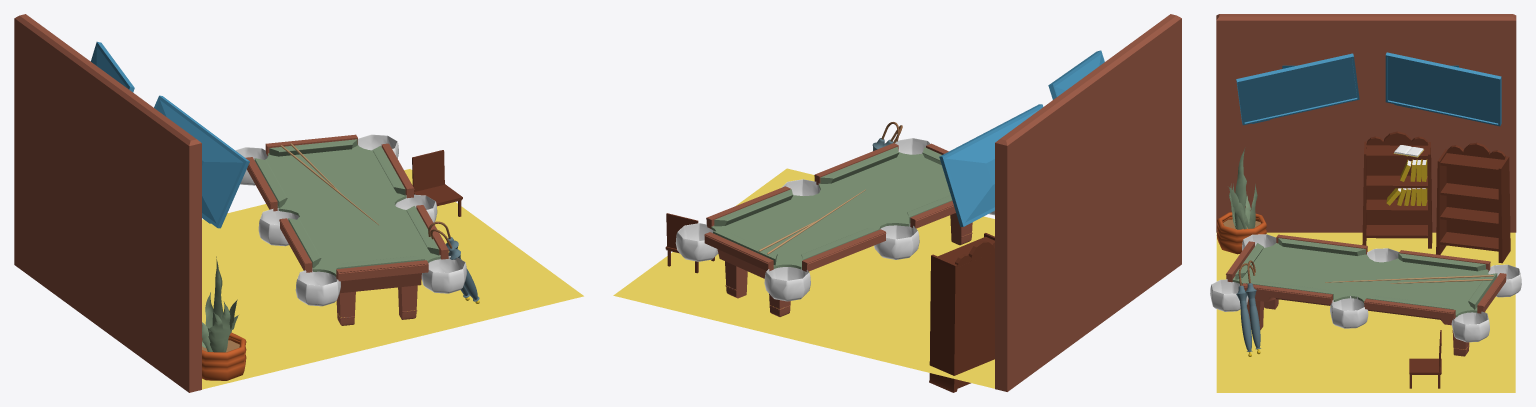
Rendered from Take3.fbx.
The picture shows the model from 3 angles, left to right: view 1: azimuth 30°, elevation 25°; view 2: azimuth 150°, elevation 25°; view 3: azimuth 270°, elevation 25°; orthographic projection. The views are drawn at different scales.
Parts seen in each view (by area): view 1: Wall, Floor, Table_PoolTable:Bed, Table_TelevisionWallMounted:Monitor, Unit4_CurvesLab:revolvedSurface1, Table_PoolTable:Cup5, Table_PoolTable:Cup4, Table_PoolTable:OuterEdge6, Chair_Again:pCube6, Table_PoolTable:TableBase, Table_PoolTable:Cup3, Table_PoolTable:Edge1 (+16 smaller); view 2: Wall, Floor, Table_PoolTable:Bed, Bookshelves1:Bookshelves, Table_TelevisionWallMounted1:Monitor, Table_PoolTable:Cup2, Table_PoolTable:Cup3, Table_PoolTable:Cup1, Table_PoolTable:OuterEdge2, Table_PoolTable:OuterEdge5, Table_TelevisionWallMounted:Monitor, Table_PoolTable:Edge6 (+9 smaller); view 3: Wall, Floor, Table_PoolTable:Bed, Bookshelves1:Bookshelves, Bookshelves:Bookshelves, Table_TelevisionWallMounted1:Monitor, Table_TelevisionWallMounted:Monitor, Unit4_CurvesLab:revolvedSurface1, Table_PoolTable:OuterEdge3, Table_PoolTable:Cup1, Table_PoolTable:Cup, Table_PoolTable:OuterEdge4 (+20 smaller).
Part boxes in pixels (x1,y1,x2,y2): Wall: (14, 14, 201, 392); Floor: (202, 169, 583, 389); Table_PoolTable:Bed: (265, 145, 440, 276); Table_TelevisionWallMounted:Monitor: (154, 95, 249, 228); Unit4_CurvesLab:revolvedSurface1: (202, 332, 246, 380); Table_PoolTable:Cup5: (295, 268, 340, 306); Table_PoolTable:Cup4: (421, 255, 466, 293); Table_PoolTable:OuterEdge6: (336, 260, 428, 281); Chair_Again:pCube6: (412, 150, 444, 191); Table_PoolTable:TableBase: (339, 273, 421, 293); Table_PoolTable:Cup3: (258, 208, 298, 246); Table_PoolTable:Edge1: (269, 139, 357, 156); Wall: (995, 14, 1181, 391); Floor: (613, 168, 994, 388); Table_PoolTable:Bed: (711, 152, 950, 269); Bookshelves1:Bookshelves: (929, 233, 994, 392); Table_TelevisionWallMounted1:Monitor: (939, 104, 1043, 226); Table_PoolTable:Cup2: (764, 267, 810, 301); Table_PoolTable:Cup3: (874, 224, 919, 259); Table_PoolTable:Cup1: (675, 223, 718, 261); Table_PoolTable:OuterEdge2: (802, 229, 886, 271); Table_PoolTable:OuterEdge5: (704, 232, 773, 271); Table_TelevisionWallMounted:Monitor: (1048, 50, 1104, 99); Table_PoolTable:Edge6: (714, 189, 793, 226); Wall: (1216, 14, 1516, 232); Floor: (1216, 232, 1515, 392); Table_PoolTable:Bed: (1232, 243, 1488, 317); Bookshelves1:Bookshelves: (1436, 142, 1510, 263); Bookshelves:Bookshelves: (1362, 131, 1432, 248); Table_TelevisionWallMounted1:Monitor: (1385, 52, 1501, 126); Table_TelevisionWallMounted:Monitor: (1236, 53, 1359, 125); Unit4_CurvesLab:revolvedSurface1: (1216, 212, 1266, 254); Table_PoolTable:OuterEdge3: (1364, 298, 1455, 320); Table_PoolTable:Cup1: (1451, 311, 1489, 342); Table_PoolTable:Cup: (1330, 296, 1368, 328); Table_PoolTable:OuterEdge4: (1242, 283, 1332, 304).
Size of the model in its own units: 31.45 by 20.37 by 25.02.
Materials: 1 (1 with a texture image).
